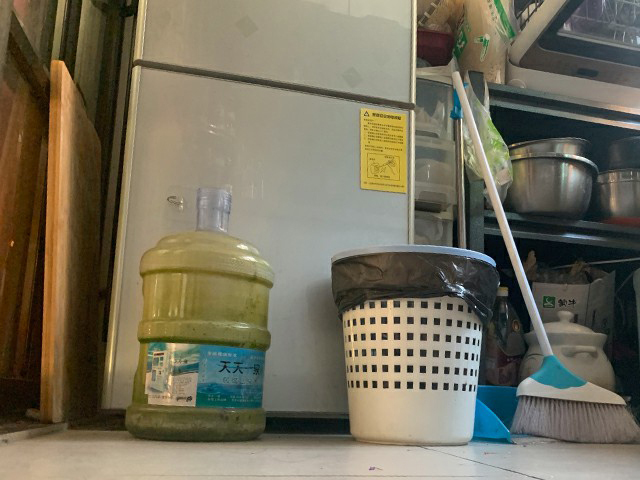trashcan: (329, 244, 497, 444)
